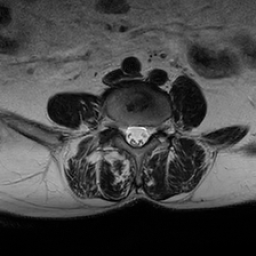CCS_normal: (132, 115, 140, 154)
LFS_normal: (149, 115, 160, 140)
LLS_normal: (140, 115, 149, 148)
RFS_normal: (115, 113, 123, 139)
RLS_normal: (123, 116, 132, 148)
